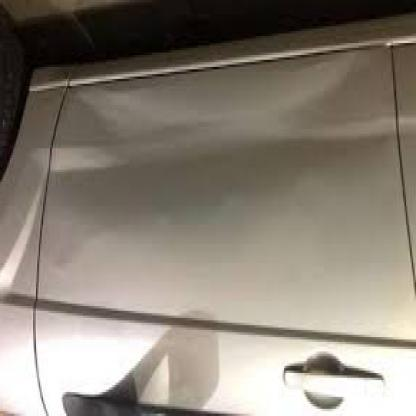dent: (41, 96, 146, 192)
